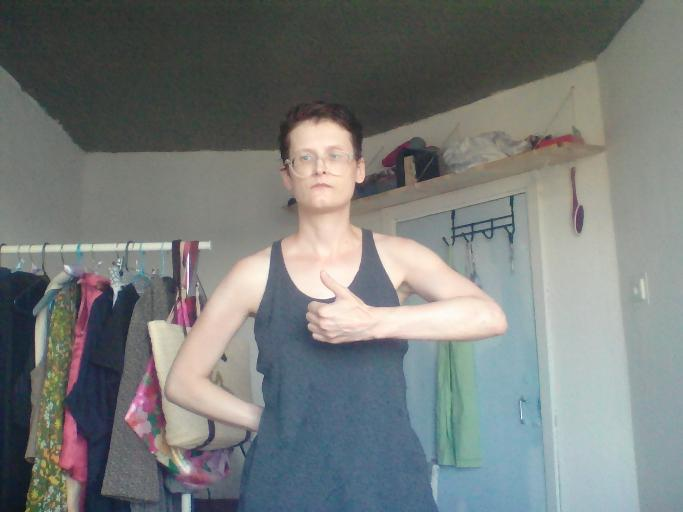like: (303, 268, 374, 347)
